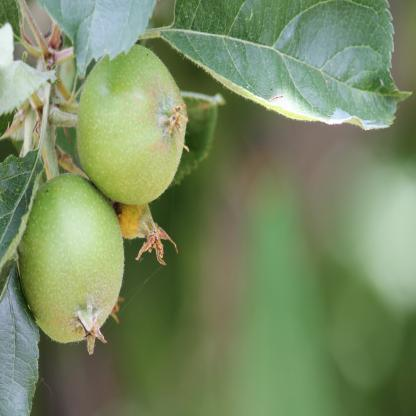apple leaf: (161, 4, 414, 142)
